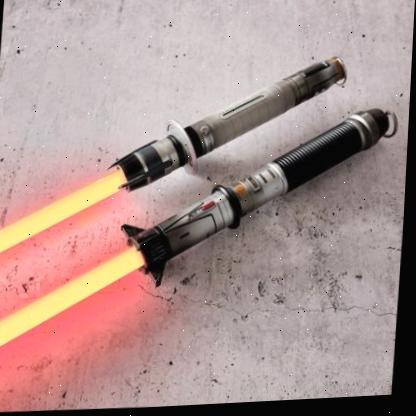sith_lightsaber: (0, 98, 402, 369), (0, 45, 351, 271)
